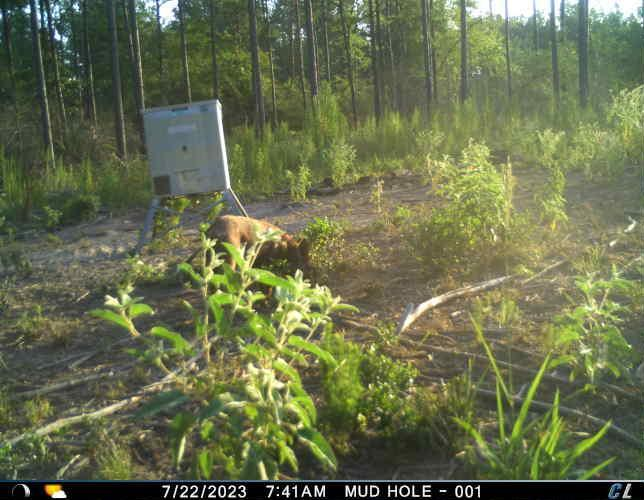Hog: (202, 211, 313, 282)
